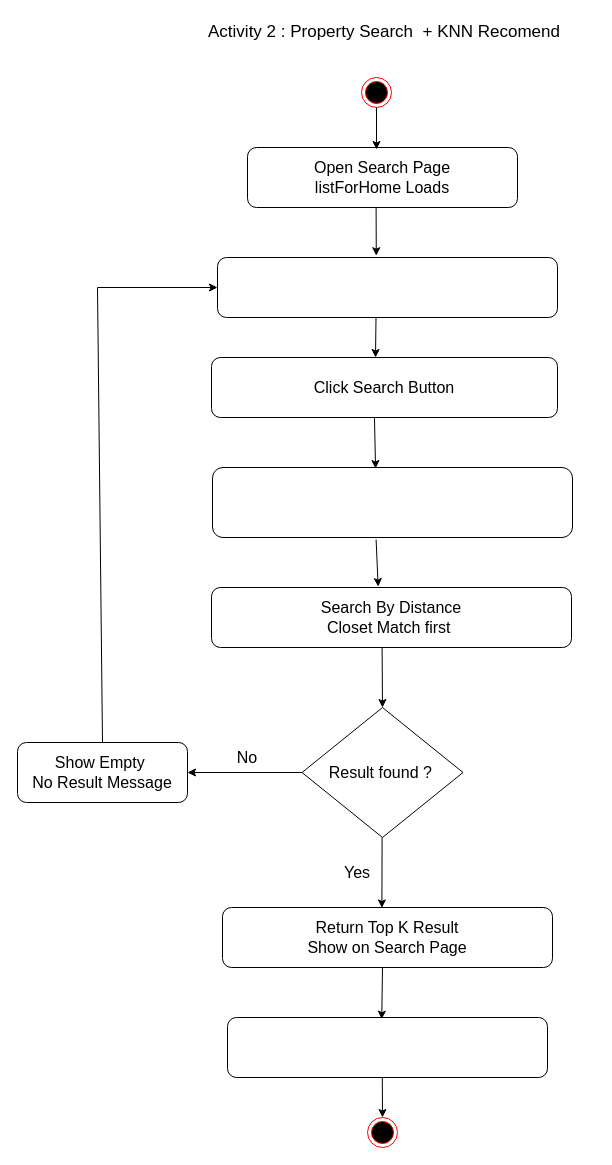
Image size: 612x1165. Some labels were removed from this diagram. Here are the shapes that lost their labels. From the top down, the box of each, then its label:
(216, 256, 558, 318): Set Filter Params Bed, Location, Bathroom, Size
(212, 466, 572, 538): KNN Algorithm Run Fetch all from DS2: Properties Calculate distance to each
(226, 1016, 548, 1078): User View Similar Properties
